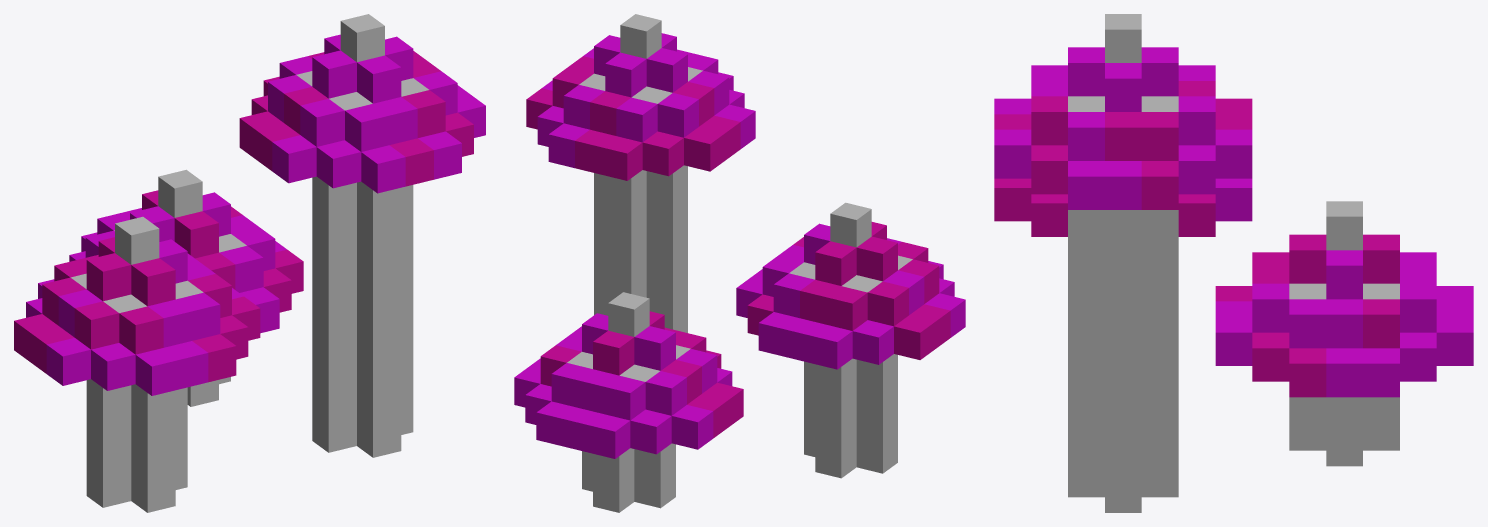
Rendered from map_v1-14.obj.
3 renders of one model, left to right at view 1: azimuth 30°, elevation 25°; view 2: azimuth 150°, elevation 25°; view 3: azimuth 270°, elevation 25°, orthographic. The views are drawn at different scales.
Size of the model in its own units: 1.5 by 1.4 by 1.3.
1 material, 1 textured.
